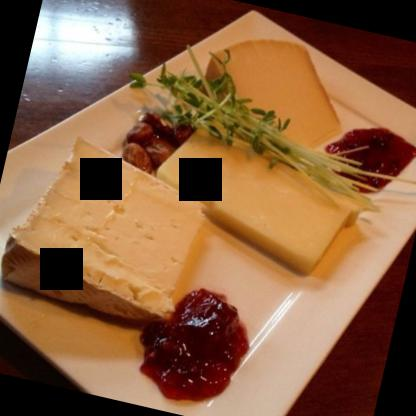cheese: (0, 131, 211, 332)
parmesan cheese: (144, 98, 366, 288), (194, 16, 360, 160)
